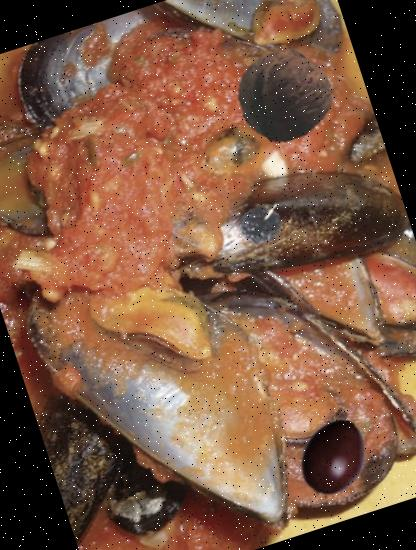Mulberry: (226, 196, 294, 262)
Tamarillo: (278, 406, 386, 514)
Walnut: (224, 35, 344, 155)
